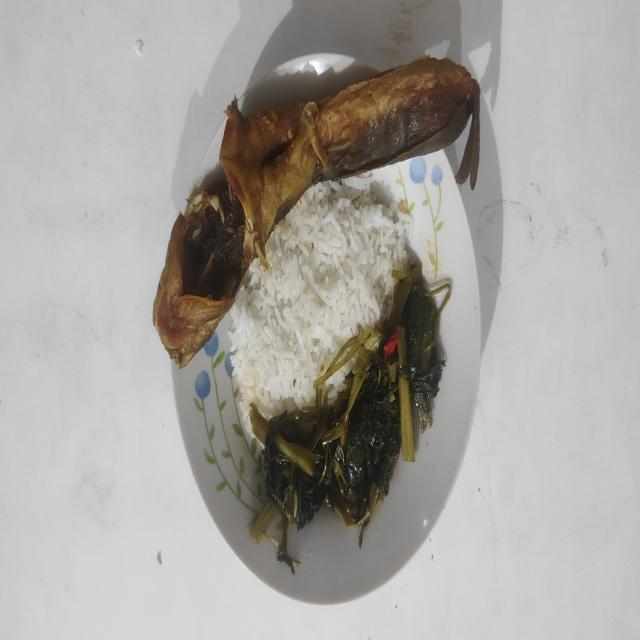nasi_putih: (229, 172, 414, 420)
tumis_kangkung: (248, 266, 452, 574)
